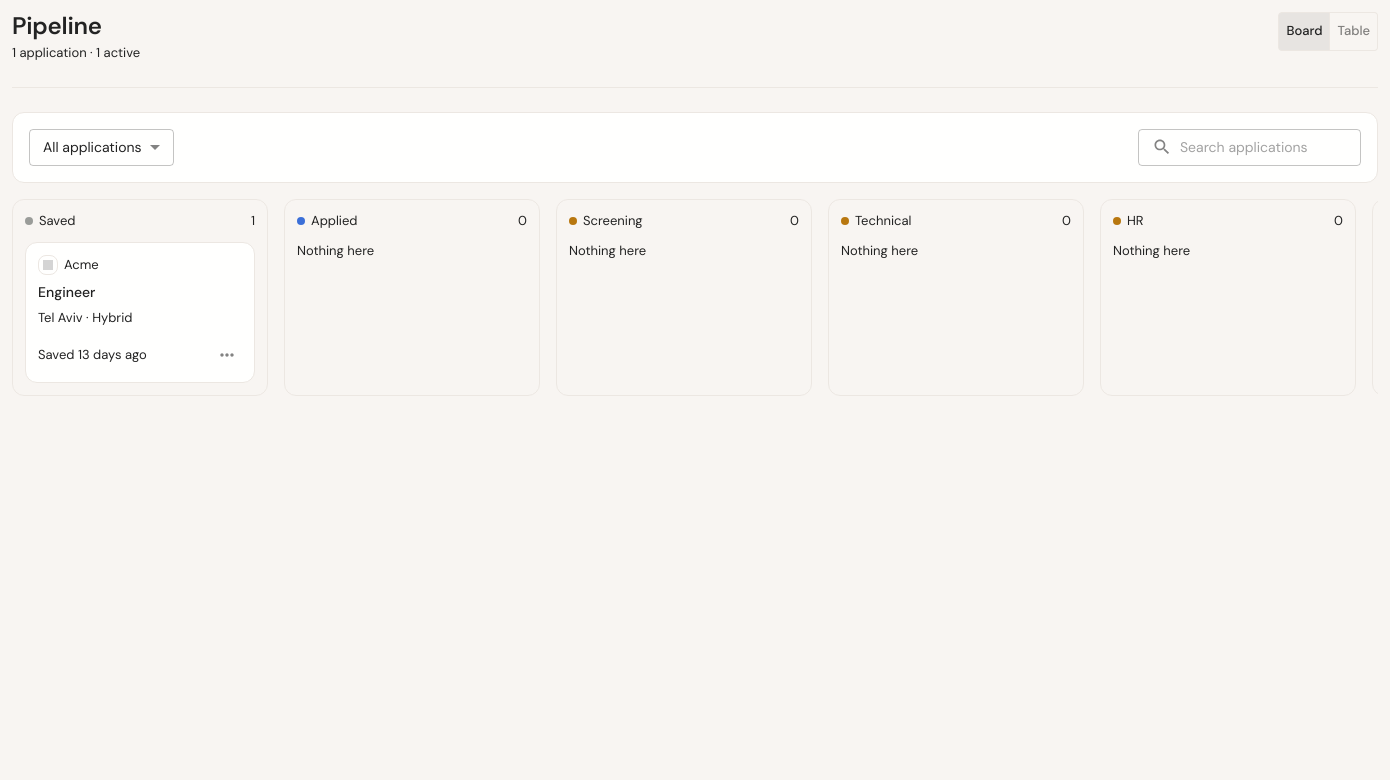
PipelinePage › should move an application to another status from the board
Expected: the text "Acme" is shown, [64,256,99,275]
What coordinates should you click on to do the following:
click the button named "More actions for Engineer"
I would click on:
 (227, 355)
Its box is [212,340,242,370].
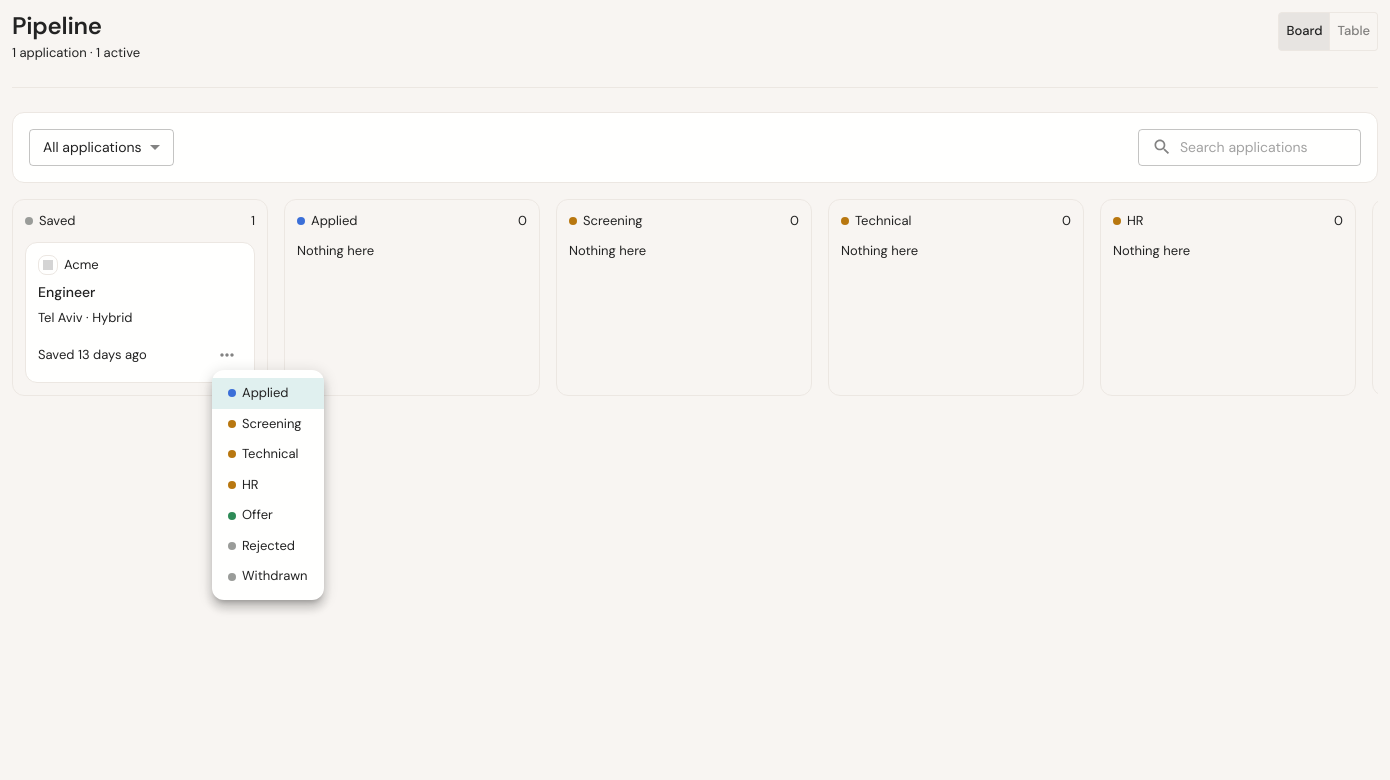
What coordinates should you click on to do the following:
click the menu item "Applied"
I would click on:
 (268, 393)
Its box is [212,378,324,409].
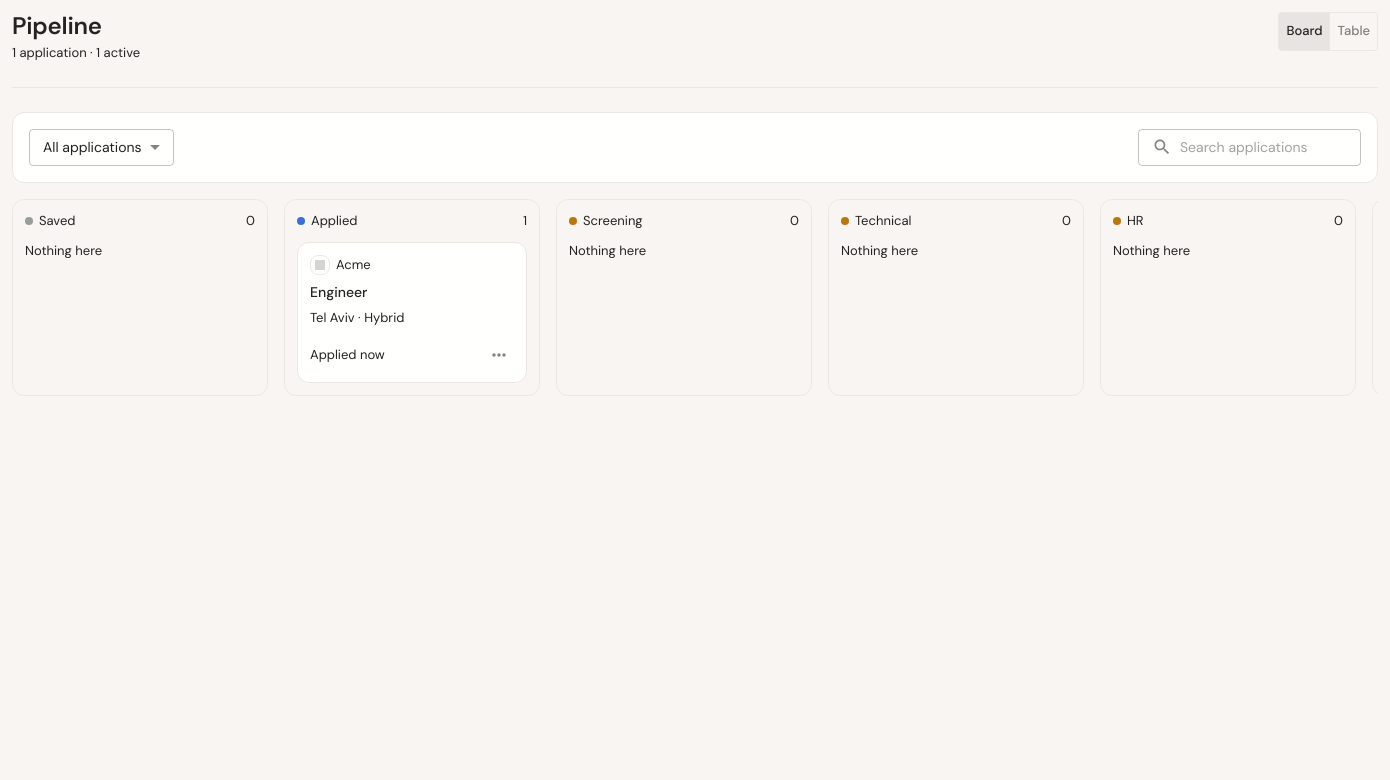
Now the text "Acme" is shown, box [336,256,371,275]
Now the text "Nothing here" below "Saved" is shown, box [25,242,102,259]
